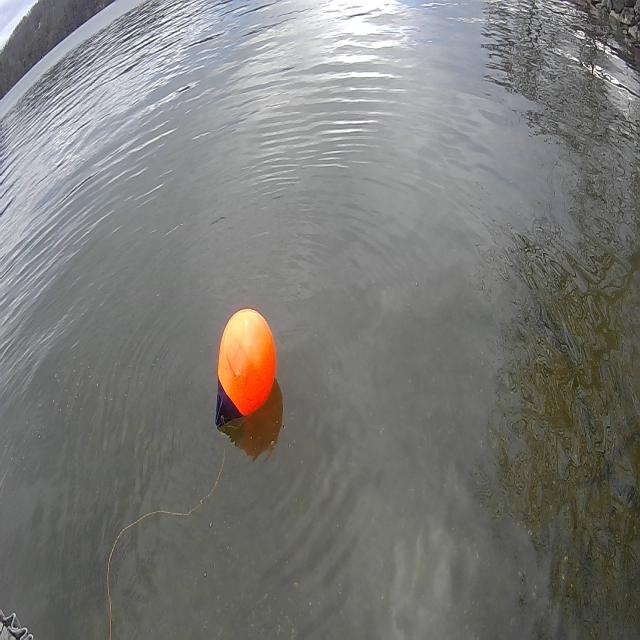Buoy: (204, 297, 284, 440)
